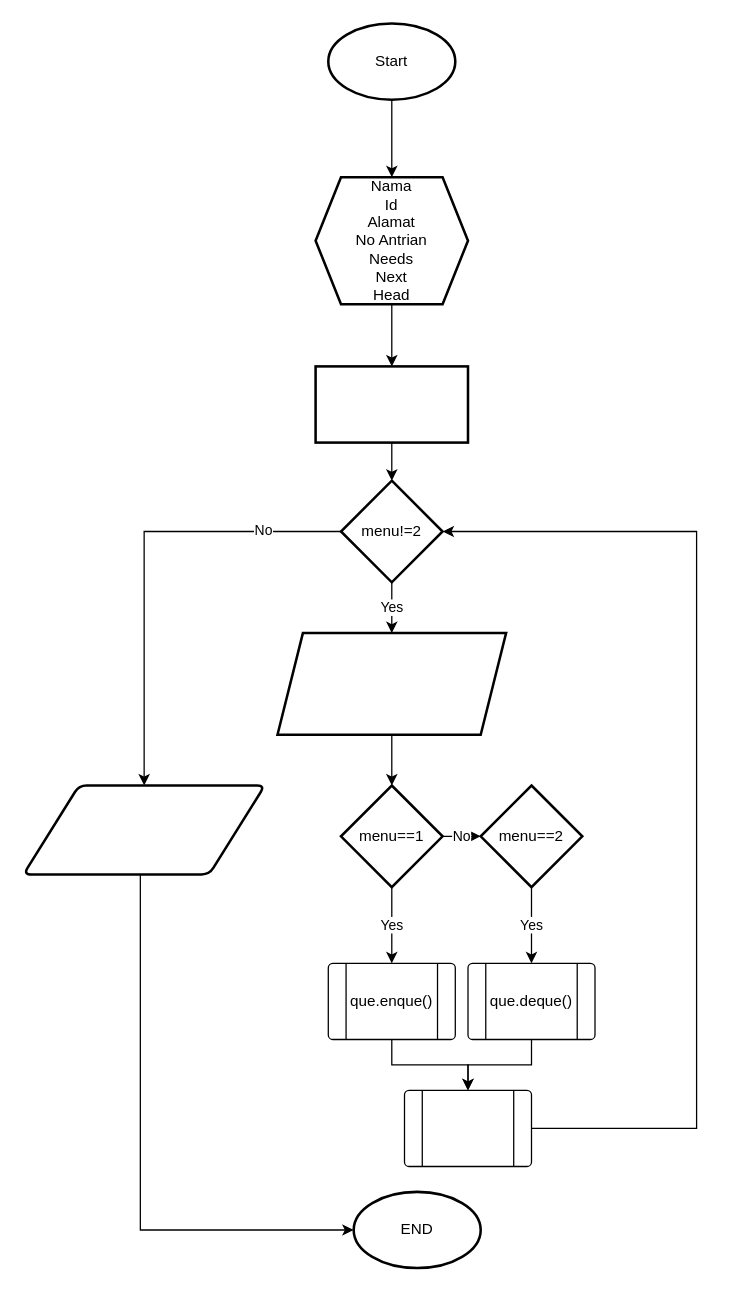
This 729x1290 diagram has some shape labels left out. Each missing label, with the centre of its shape:
"1. Register 2. Next" belongs at point 391,683.
"linked Rumah Sakit = new linked()" belongs at point 391,403.
"Print Sorry, Choices not found! You are exited automatically" belongs at point 143,829.
"que.view()" belongs at point 467,1127.
